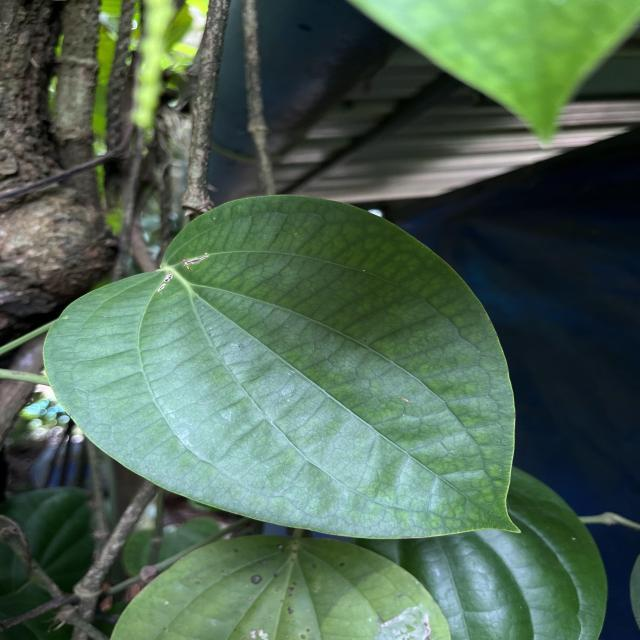Piper nigrum: (41, 192, 528, 541)
